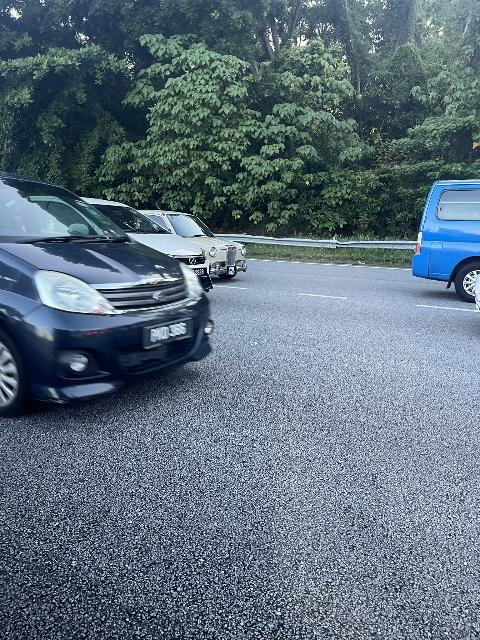License_Plate: (140, 313, 201, 354)
car: (1, 172, 221, 420)
